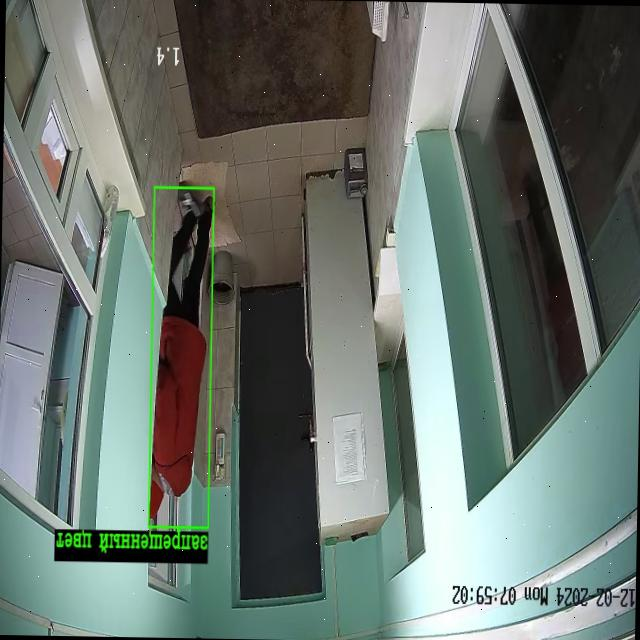Person: (151, 193, 213, 517)
